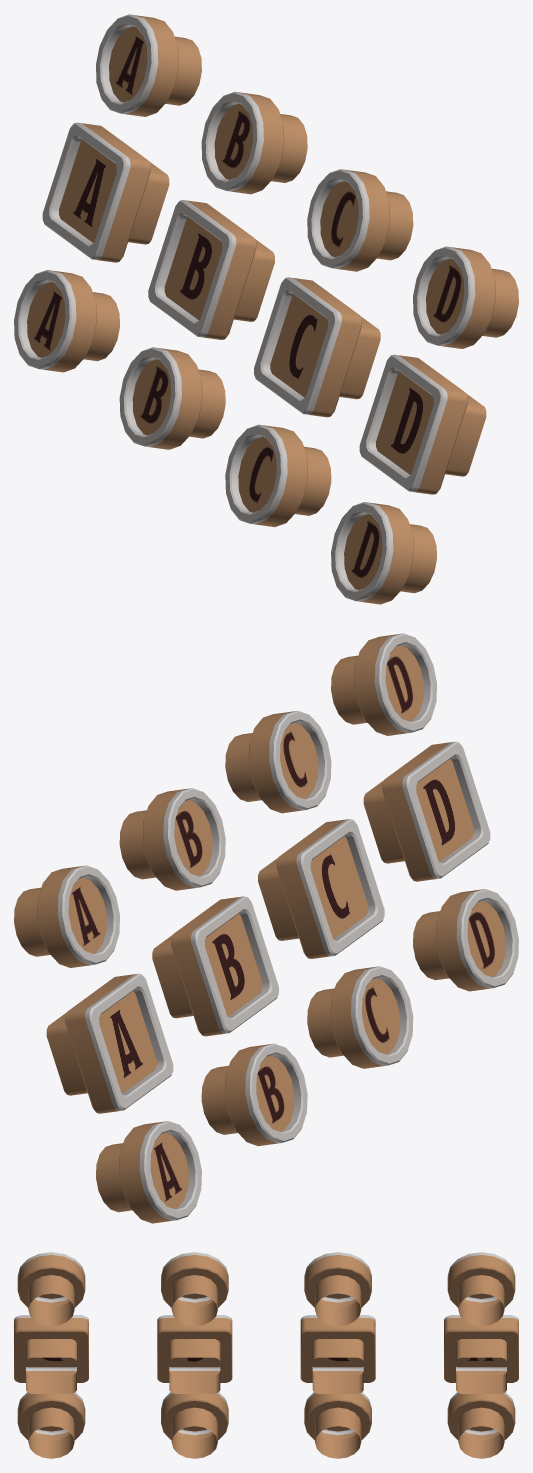
The model's file is Buttons.fbx.
The picture shows the model from 3 angles, top to bottom: view 1: azimuth 30°, elevation 25°; view 2: azimuth 150°, elevation 25°; view 3: azimuth 270°, elevation 25°; orthographic projection. The views are drawn at different scales.
Parts seen in each view (by area): view 1: LIQ_Move_D, LIQ_Move_A, LIQ_Move_C, LIQ_Move_B, LIQ_Empty_C, LIQ_Fill_C, LIQ_Empty_B, LIQ_Fill_B, LIQ_Fill_A, LIQ_Fill_D, LIQ_Empty_D, LIQ_Empty_A; view 2: LIQ_Move_A, LIQ_Move_B, LIQ_Move_D, LIQ_Move_C, LIQ_Empty_B, LIQ_Fill_B, LIQ_Empty_C, LIQ_Fill_C, LIQ_Fill_A, LIQ_Fill_D, LIQ_Empty_A, LIQ_Empty_D; view 3: LIQ_Move_B, LIQ_Move_C, LIQ_Move_A, LIQ_Move_D, LIQ_Fill_A, LIQ_Fill_D, LIQ_Fill_B, LIQ_Fill_C, LIQ_Empty_A, LIQ_Empty_D, LIQ_Empty_B, LIQ_Empty_C.
Boxes of the visible parts, <box> form: LIQ_Move_D: <box>359,354,486,494</box>; LIQ_Move_A: <box>42,122,169,262</box>; LIQ_Move_C: <box>254,277,380,417</box>; LIQ_Move_B: <box>148,200,274,339</box>; LIQ_Empty_C: <box>225,424,331,527</box>; LIQ_Fill_C: <box>307,169,413,271</box>; LIQ_Empty_B: <box>119,347,225,449</box>; LIQ_Fill_B: <box>201,92,307,194</box>; LIQ_Fill_A: <box>96,14,201,116</box>; LIQ_Fill_D: <box>413,246,518,348</box>; LIQ_Empty_D: <box>331,502,436,604</box>; LIQ_Empty_A: <box>14,270,119,372</box>; LIQ_Move_A: <box>46,973,173,1113</box>; LIQ_Move_B: <box>152,896,278,1036</box>; LIQ_Move_D: <box>363,741,490,881</box>; LIQ_Move_C: <box>258,819,384,958</box>; LIQ_Empty_B: <box>201,1043,307,1146</box>; LIQ_Fill_B: <box>119,788,225,890</box>; LIQ_Empty_C: <box>307,966,413,1068</box>; LIQ_Fill_C: <box>225,711,331,813</box>; LIQ_Fill_A: <box>14,865,119,967</box>; LIQ_Fill_D: <box>331,633,436,735</box>; LIQ_Empty_A: <box>96,1121,201,1223</box>; LIQ_Empty_D: <box>413,889,518,991</box>; LIQ_Move_B: <box>300,1315,375,1393</box>; LIQ_Move_C: <box>157,1315,232,1393</box>; LIQ_Move_A: <box>444,1315,518,1393</box>; LIQ_Move_D: <box>14,1315,88,1393</box>; LIQ_Fill_A: <box>447,1252,515,1326</box>; LIQ_Fill_D: <box>17,1252,85,1326</box>; LIQ_Fill_B: <box>304,1252,371,1326</box>; LIQ_Fill_C: <box>161,1252,228,1326</box>; LIQ_Empty_A: <box>447,1392,515,1458</box>; LIQ_Empty_D: <box>17,1392,85,1458</box>; LIQ_Empty_B: <box>304,1392,371,1458</box>; LIQ_Empty_C: <box>161,1392,228,1458</box>.
Bounding box in the file's own units: 20.39 × 38.98 × 79.71.
Materials: 5 (4 with a texture image).
